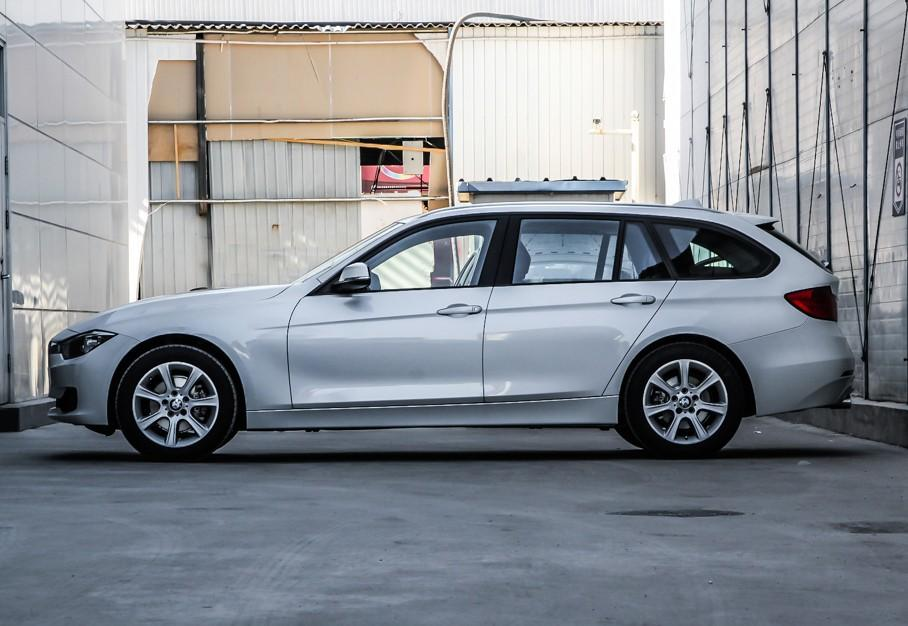Wagon: (48, 201, 856, 464)
